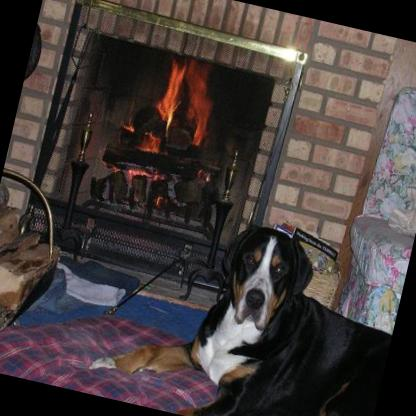Greater_Swiss_Mountain_dog: (78, 188, 409, 416)
